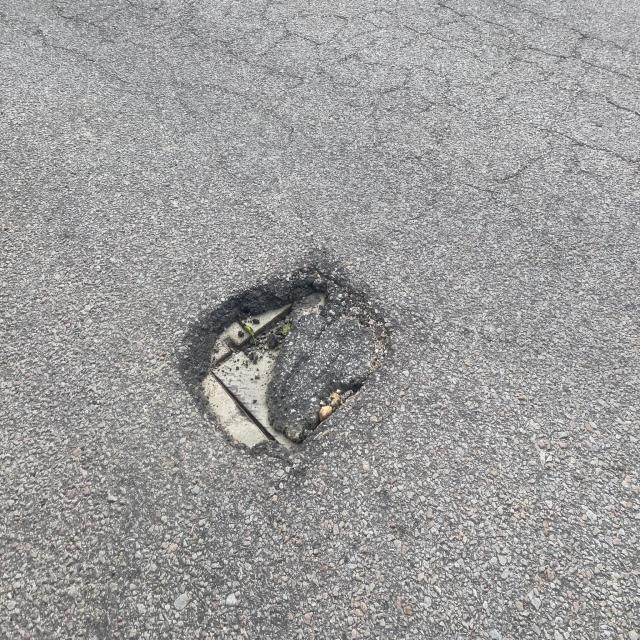Pothole: (185, 243, 406, 544)
